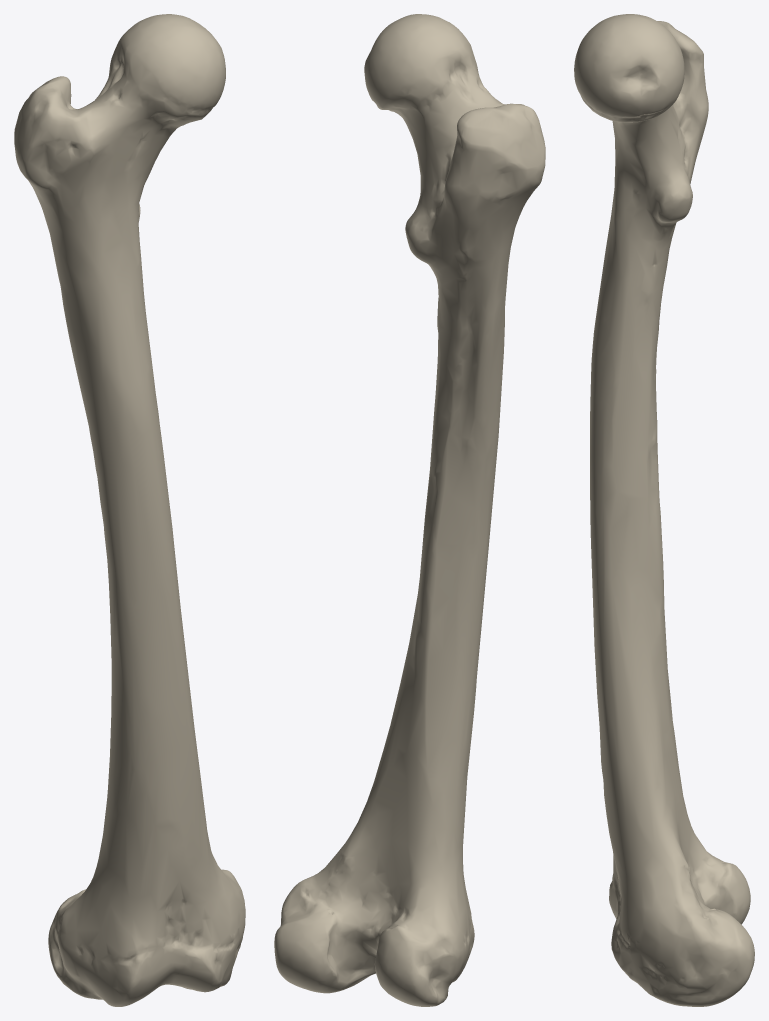
File: femur.glb
The picture shows the model from 3 angles, left to right: view 1: azimuth 30°, elevation 25°; view 2: azimuth 150°, elevation 25°; view 3: azimuth 270°, elevation 25°; orthographic projection. The views are drawn at different scales.
Visible parts, largest first — view 1: FMA24474.stl; view 2: FMA24474.stl; view 3: FMA24474.stl.
Boxes of the visible parts, x1,y1,x2,y2 form: FMA24474.stl: [14, 14, 245, 1006]; FMA24474.stl: [274, 14, 545, 1006]; FMA24474.stl: [574, 14, 754, 1006].
Size of the model in its own units: 0.5058 by 2 by 0.3435.
